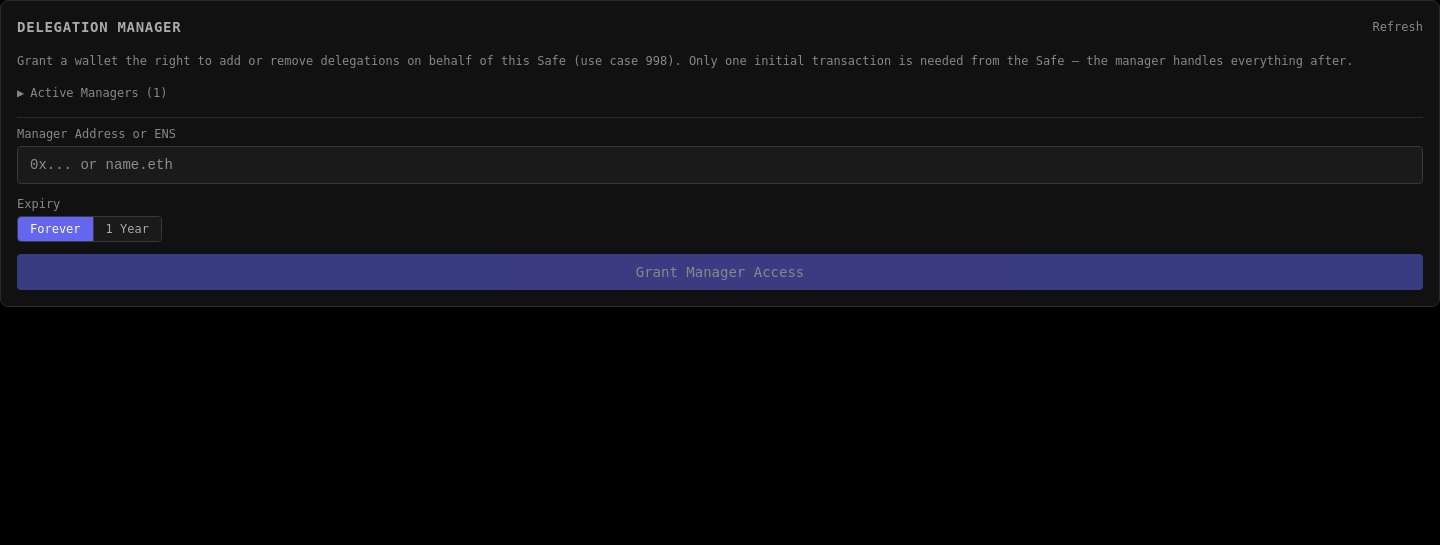
Test: DelegationManagerCard chain ID guard › blocks revoke on wrong chain
// Expand managers list
Click the button "▶ Active Managers (1)" at (92,93), box [17,85,168,101]
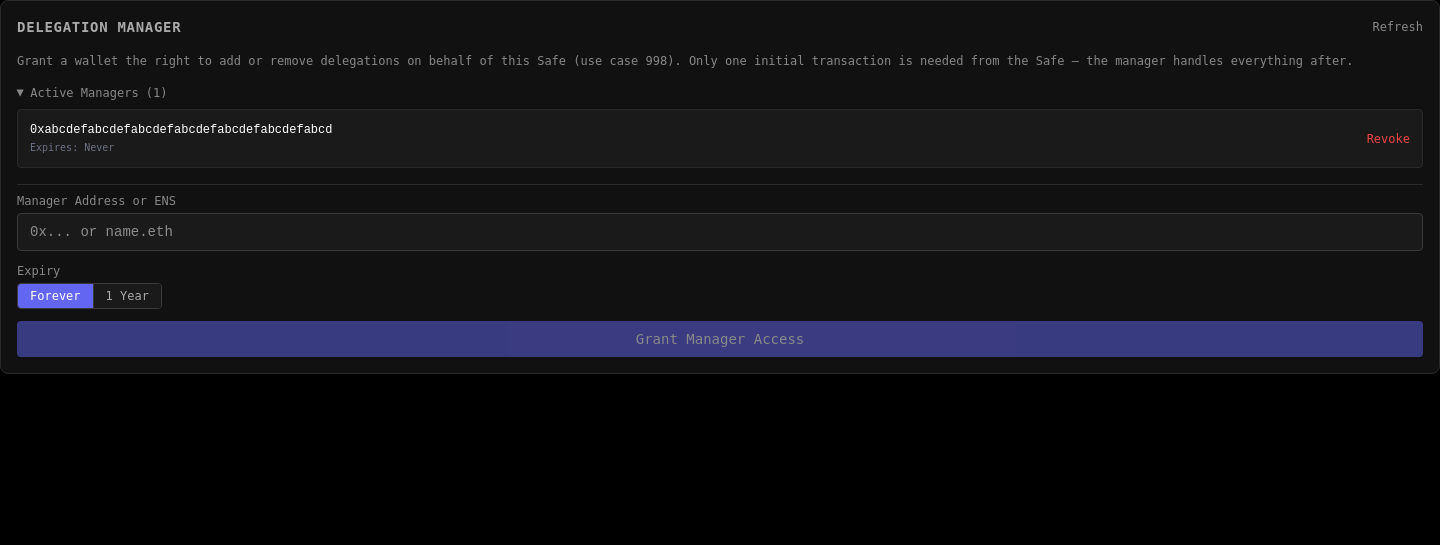
// Click Revoke to open confirmation
Click the button "Revoke" at (1388,138), box [1367,130,1410,146]
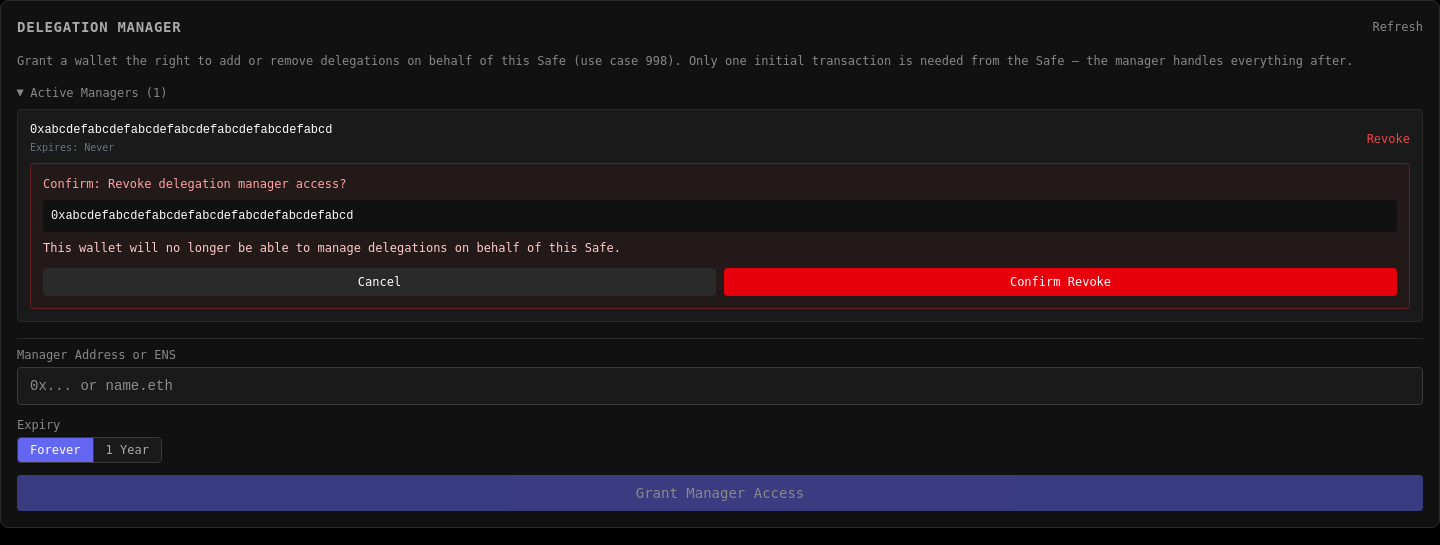
Click the button "Confirm Revoke" at (1060,282), box [724,268,1397,296]
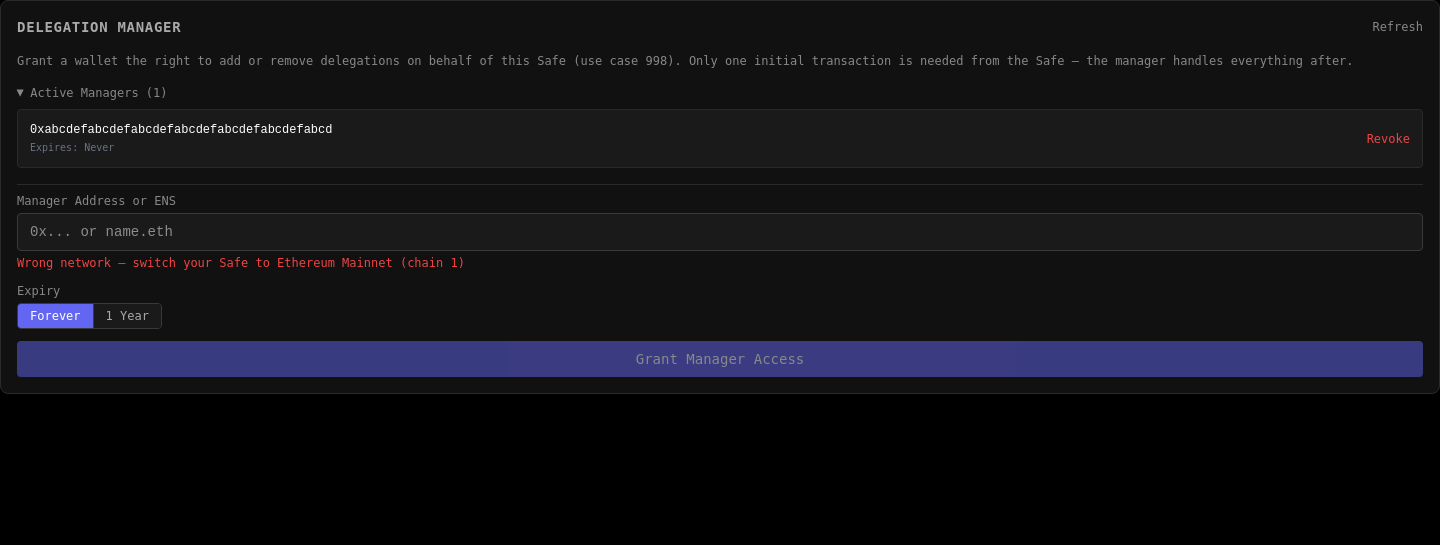
Expected: the text "Wrong network — switch your Safe to Ethereum Mainnet (chain 1)" is shown, [17,256,465,270]
